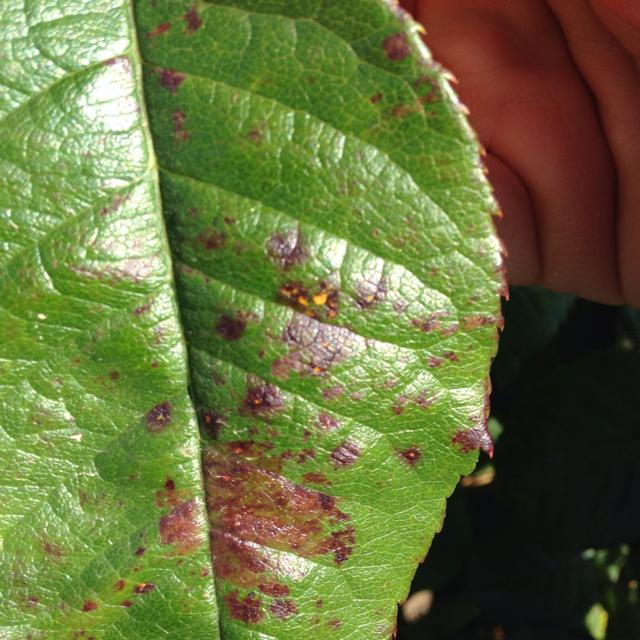leaf_spot: (0, 0, 506, 639)
